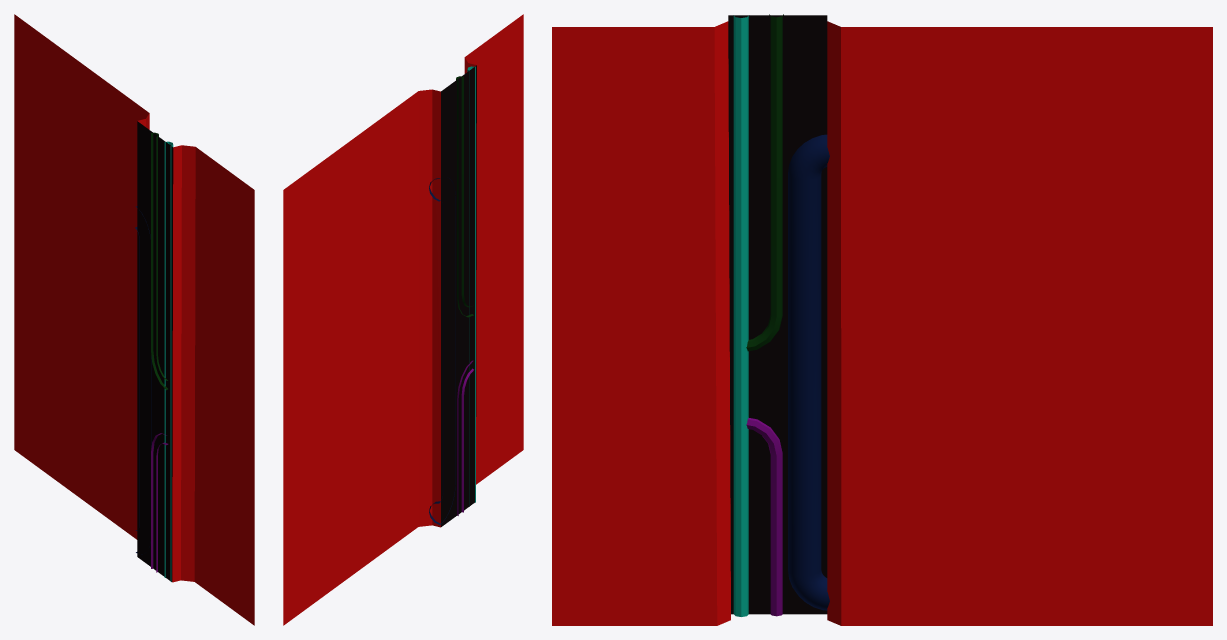
File: OBJ_8_Mur.fbx
3 views of the same model, side by side, from view 1: azimuth 30°, elevation 25°; view 2: azimuth 150°, elevation 25°; view 3: azimuth 270°, elevation 25° (orthographic). The views are drawn at different scales.
Parts seen in each view (by area): view 1: Mur_8; view 2: Mur_8; view 3: Mur_8.
Part boxes in pixels (left/top/right/bottom): Mur_8: left=14, top=14, right=254, bottom=625; Mur_8: left=283, top=14, right=523, bottom=625; Mur_8: left=552, top=14, right=1212, bottom=625.
Bounding box in the file's own units: 55.69 × 1200 × 1200.
